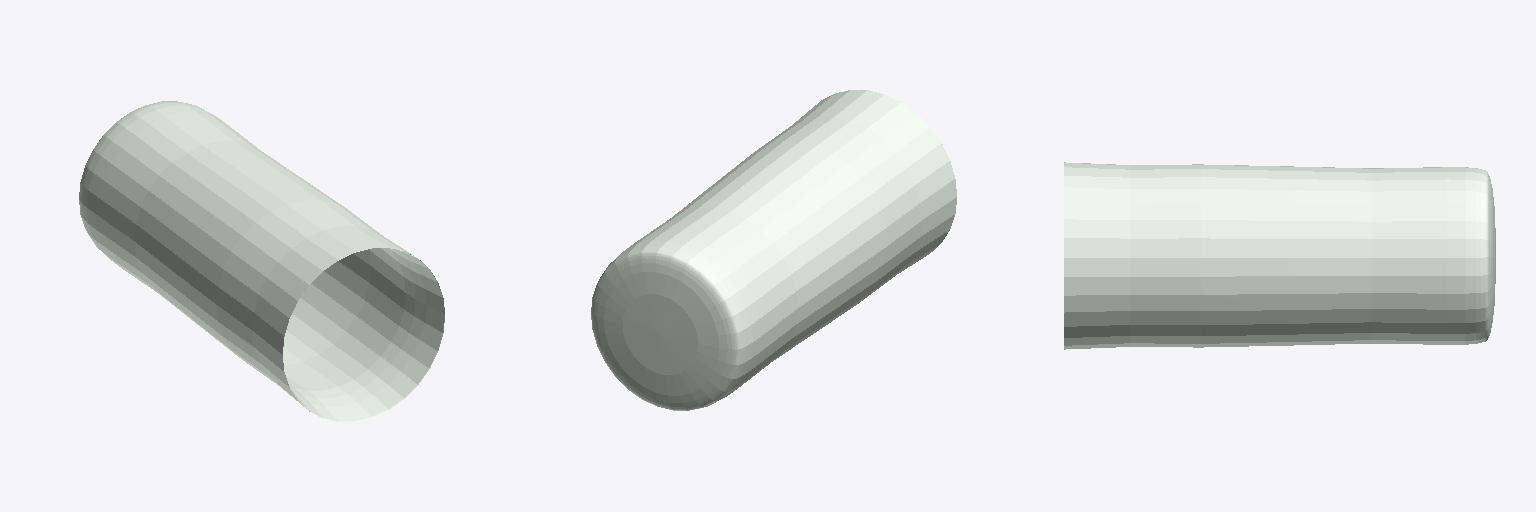
Rendered from TallGlass.obj.
3 renders of one model, left to right at view 1: azimuth 30°, elevation 25°; view 2: azimuth 150°, elevation 25°; view 3: azimuth 270°, elevation 25°, orthographic.
Parts seen in each view (by area): view 1: TallGlass_SM_TallGlass; view 2: TallGlass_SM_TallGlass; view 3: TallGlass_SM_TallGlass.
Boxes of the visible parts, x1=… form: TallGlass_SM_TallGlass: x1=79, y1=101, x2=444, y2=421; TallGlass_SM_TallGlass: x1=591, y1=90, x2=956, y2=410; TallGlass_SM_TallGlass: x1=1064, y1=162, x2=1495, y2=349.
Size of the model in its own units: 0.076 by 0.0756 by 0.1747.